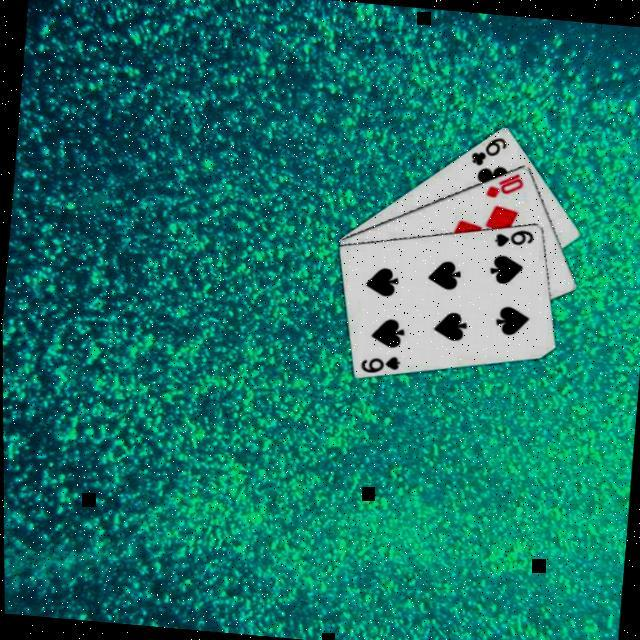10D: (483, 167, 527, 200)
6C: (468, 130, 511, 169)
6S: (491, 223, 537, 251), (358, 348, 403, 376)
